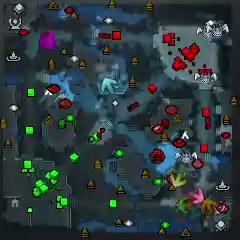p3: (38, 31, 56, 51)
x1: (188, 187, 204, 205)
x2: (170, 170, 185, 188)
x3: (101, 77, 118, 93)
x4: (177, 197, 194, 215)
x5: (199, 198, 219, 216)
